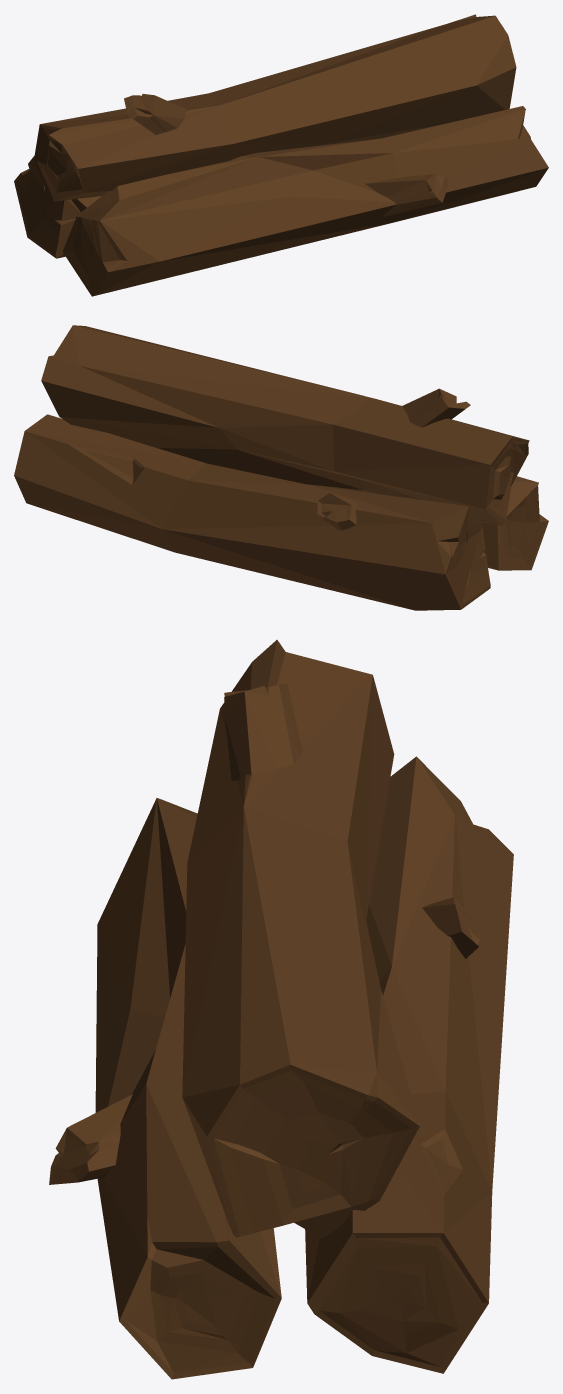
File: SM_Tree_Oak_Log_Pile_A.fbx
3 renders of one model, top to bottom at view 1: azimuth 30°, elevation 25°; view 2: azimuth 150°, elevation 25°; view 3: azimuth 270°, elevation 25°, orthographic. The views are drawn at different scales.
Parts seen in each view (by area): view 1: tree-oak-log-pile-a; view 2: tree-oak-log-pile-a; view 3: tree-oak-log-pile-a.
Boxes of the visible parts, x1=… form: tree-oak-log-pile-a: x1=14, y1=14, x2=548, y2=296; tree-oak-log-pile-a: x1=14, y1=325, x2=548, y2=610; tree-oak-log-pile-a: x1=49, y1=640, x2=513, y2=1379.
Bounding box in the file's own units: 3.05 × 1.12 × 1.33.
